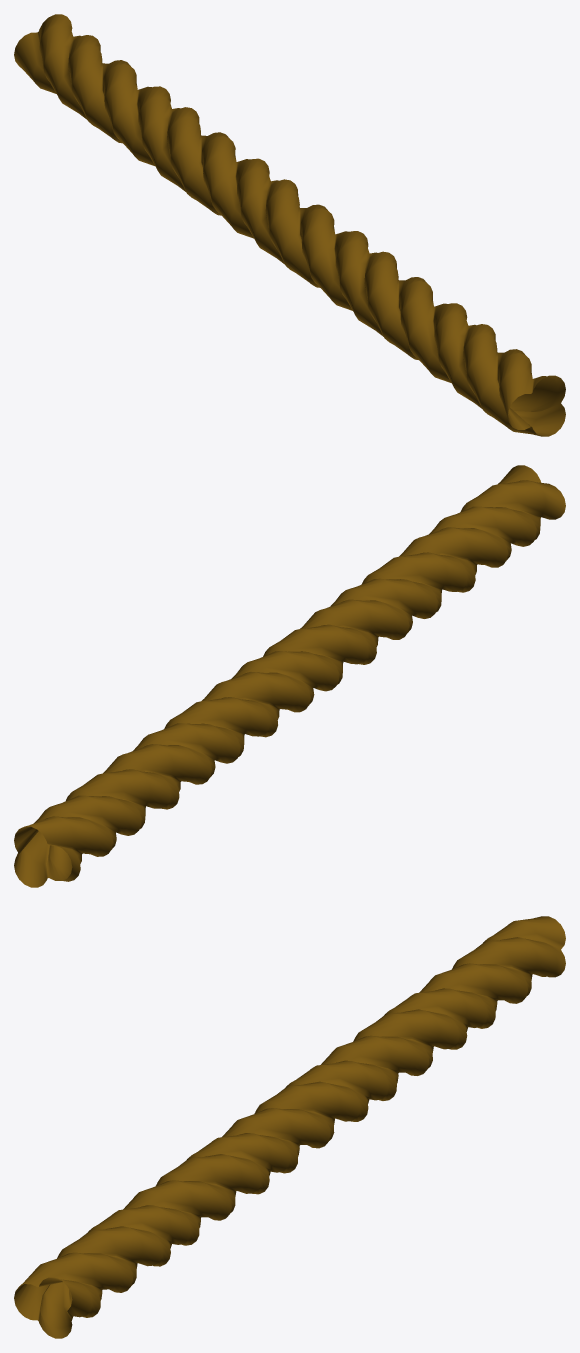
Rendered from rope.fbx.
3 views of the same model, one above another, from view 1: azimuth 30°, elevation 25°; view 2: azimuth 150°, elevation 25°; view 3: azimuth 330°, elevation 25° (orthographic).
Visible parts, largest first — view 1: Circle.002; view 2: Circle.002; view 3: Circle.002.
Part boxes in pixels (<box>): Circle.002: <box>14,14,565,436</box>; Circle.002: <box>14,465,565,887</box>; Circle.002: <box>14,916,565,1338</box>.
Bounding box in the file's own units: 375 × 372 × 5000.
